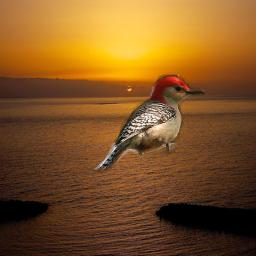Woodpecker: (93, 73, 208, 173)
